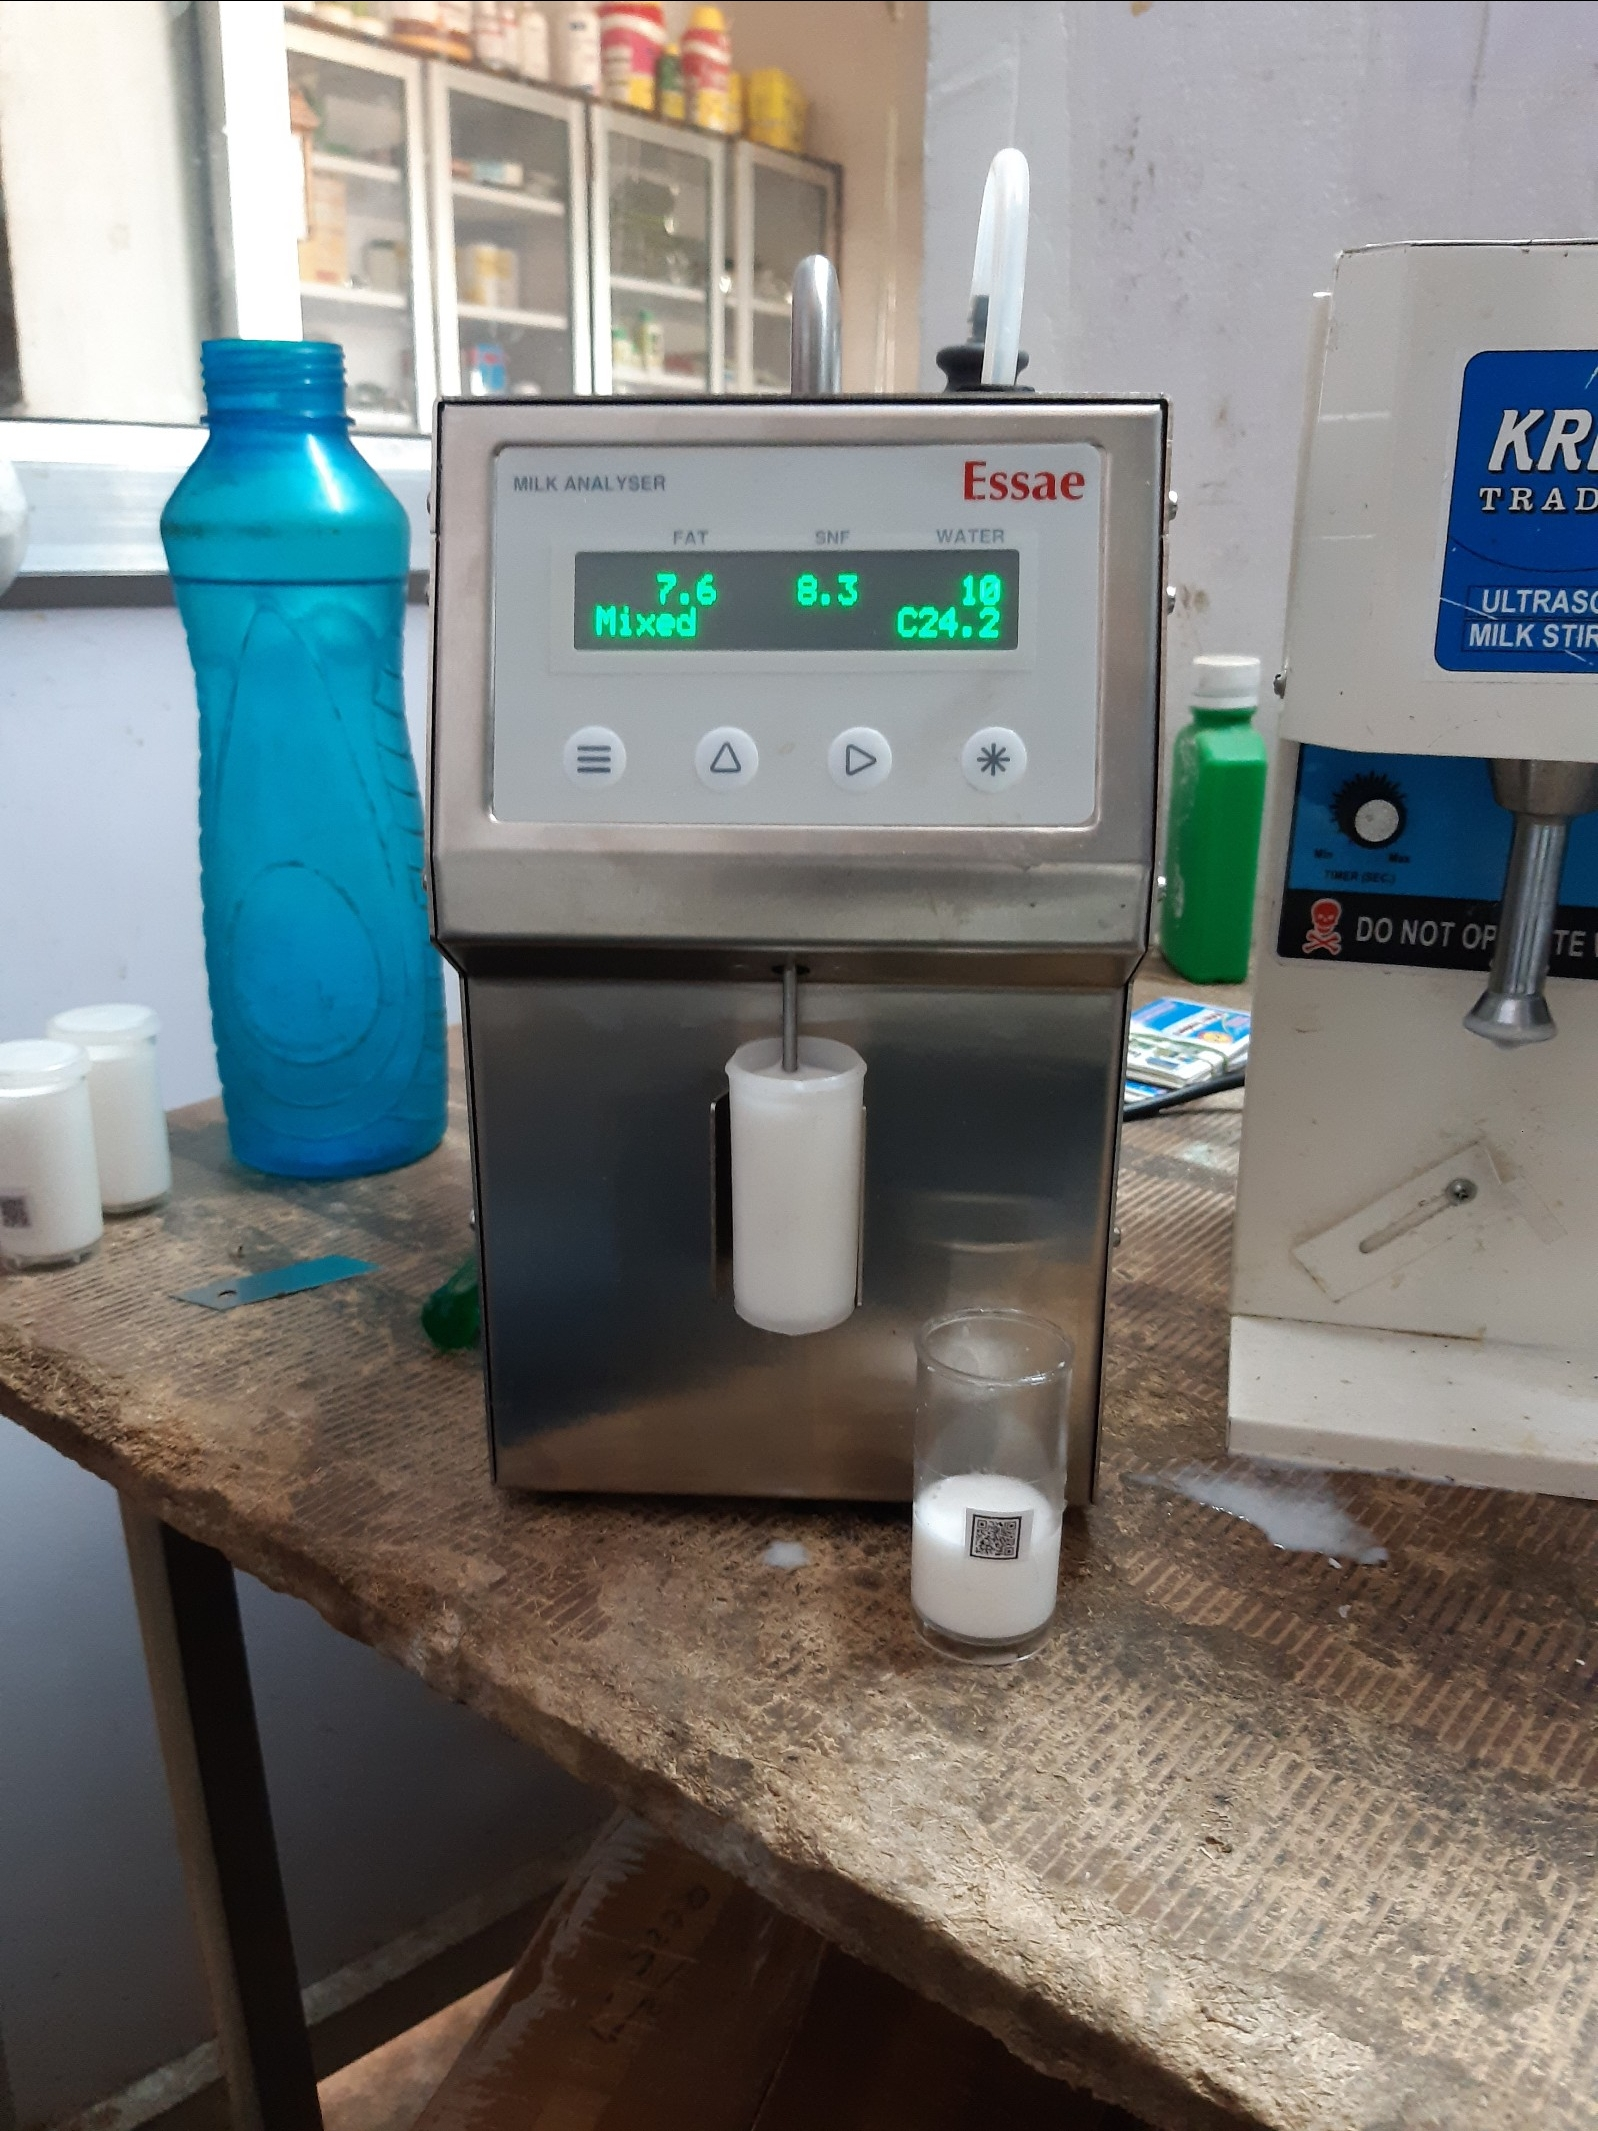lcd: (557, 542, 1032, 671)
qr: (962, 1497, 1046, 1571)
